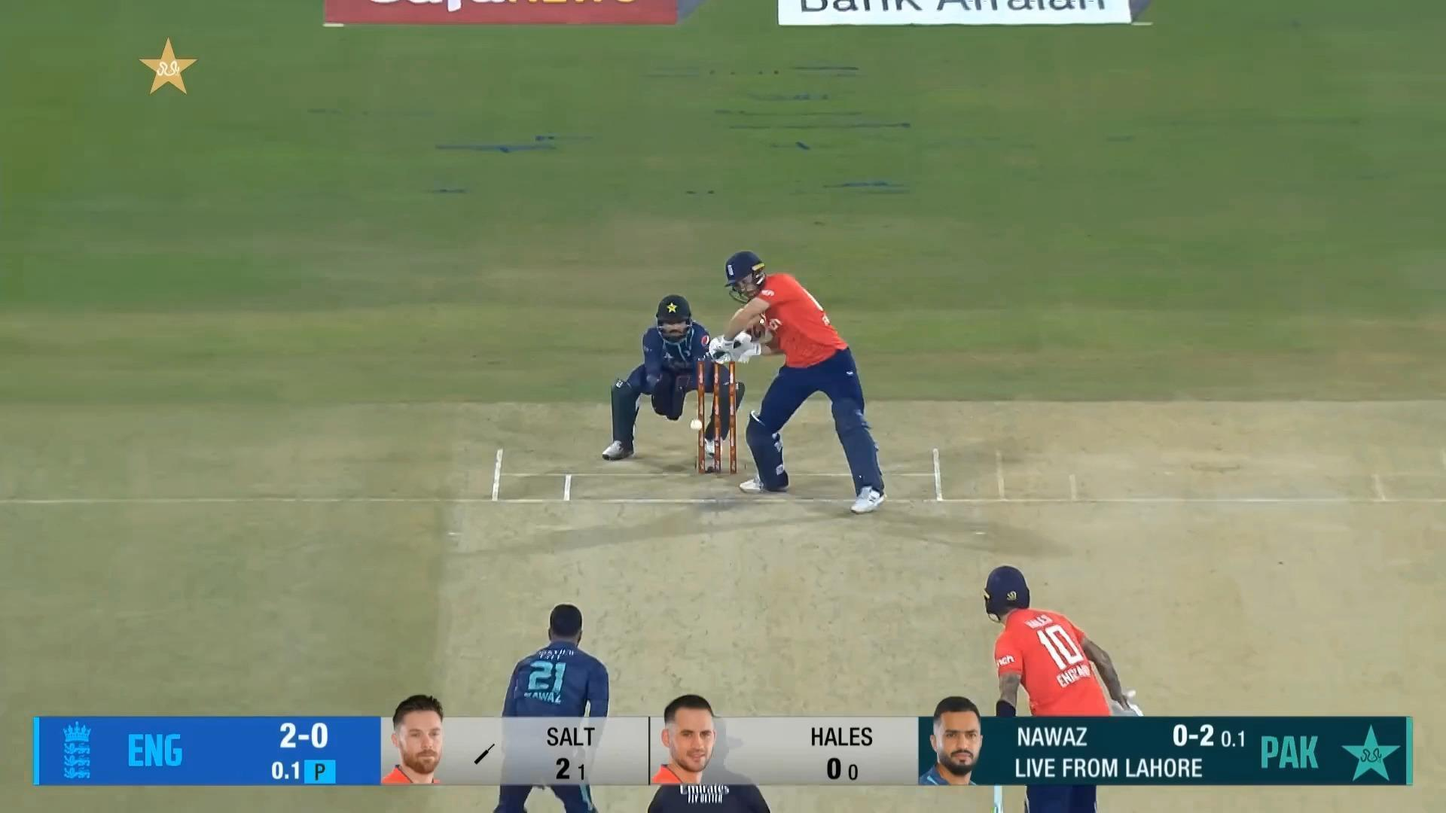BM 1: (708, 250, 888, 515)
BO: (496, 598, 611, 813)
